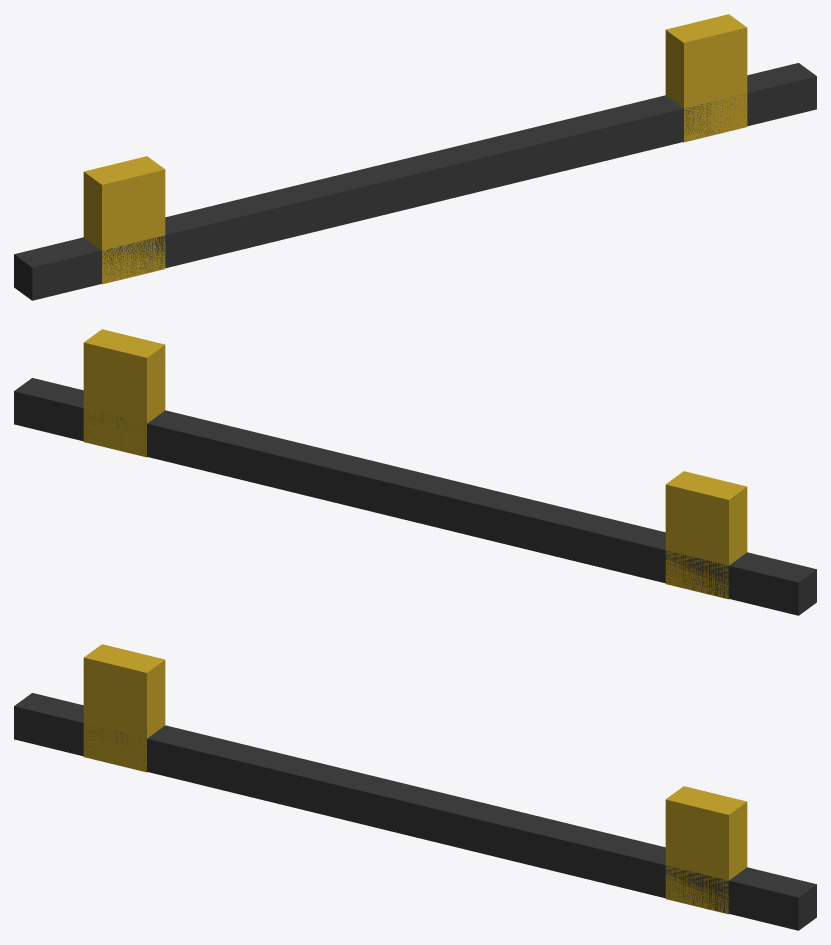
The model's file is board_line_carrier.glb.
3 views of the same model, one above another, from view 1: azimuth 30°, elevation 25°; view 2: azimuth 150°, elevation 25°; view 3: azimuth 330°, elevation 25° (orthographic).
Visible parts, largest first — view 1: BL_CarrierMesh; view 2: BL_CarrierMesh; view 3: BL_CarrierMesh.
Boxes of the visible parts, bbox=[...] form: BL_CarrierMesh: bbox=[14, 14, 816, 300]; BL_CarrierMesh: bbox=[14, 329, 816, 615]; BL_CarrierMesh: bbox=[14, 644, 816, 930].
Bounding box in the file's own units: 0.6188 × 0.075 × 0.025.
